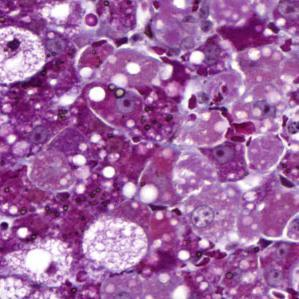ballooning: (82, 213, 150, 276), (12, 235, 76, 288), (3, 25, 49, 89)
